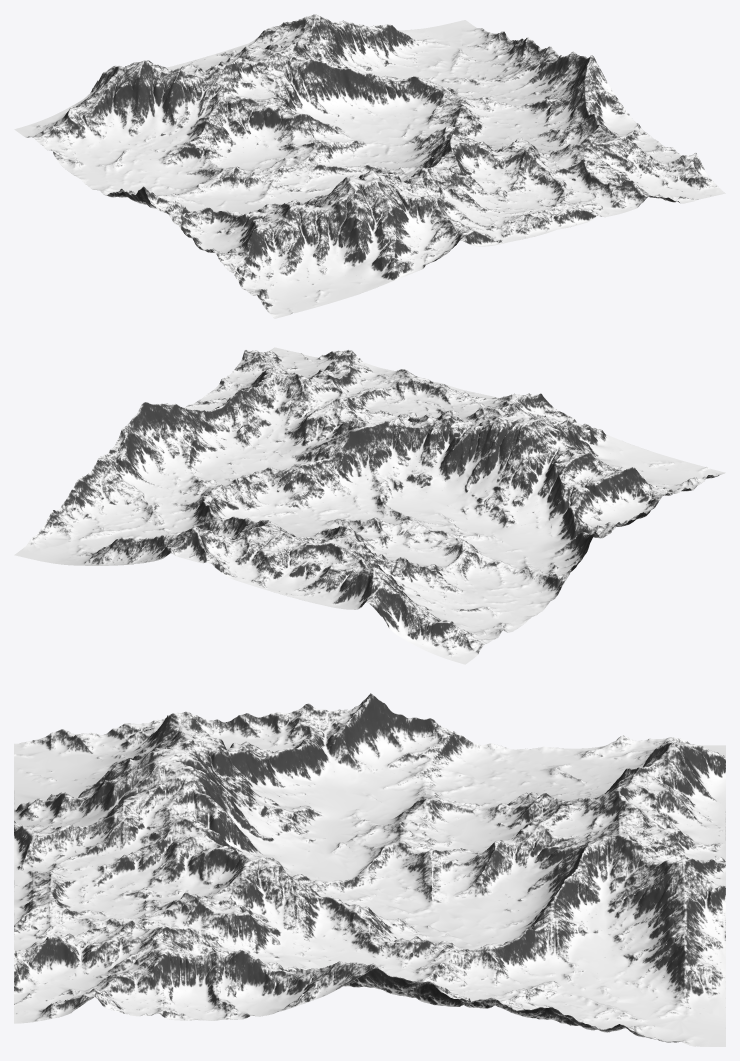
The model's file is snowy_mountain-hi.glb.
The picture shows the model from 3 angles, top to bottom: view 1: azimuth 30°, elevation 25°; view 2: azimuth 150°, elevation 25°; view 3: azimuth 270°, elevation 25°; orthographic projection. The views are drawn at different scales.
Parts seen in each view (by area): view 1: Object_2; view 2: Object_2; view 3: Object_2.
Boxes of the visible parts, bbox=[...] form: Object_2: bbox=[14, 14, 725, 318]; Object_2: bbox=[14, 347, 725, 664]; Object_2: bbox=[14, 693, 725, 1046].
Bounding box in the file's own units: 1 × 0.1432 × 1.
Materials: 1 (1 with a texture image).
